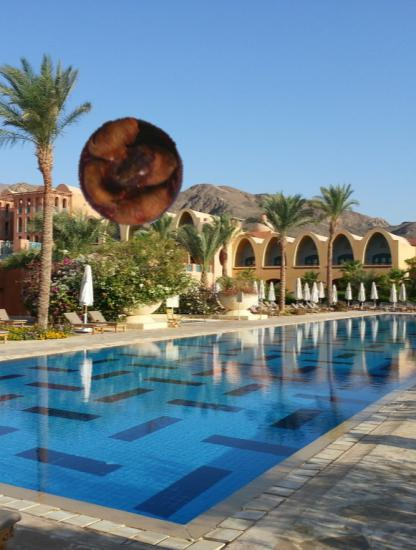Mangostan: (74, 116, 186, 228)
